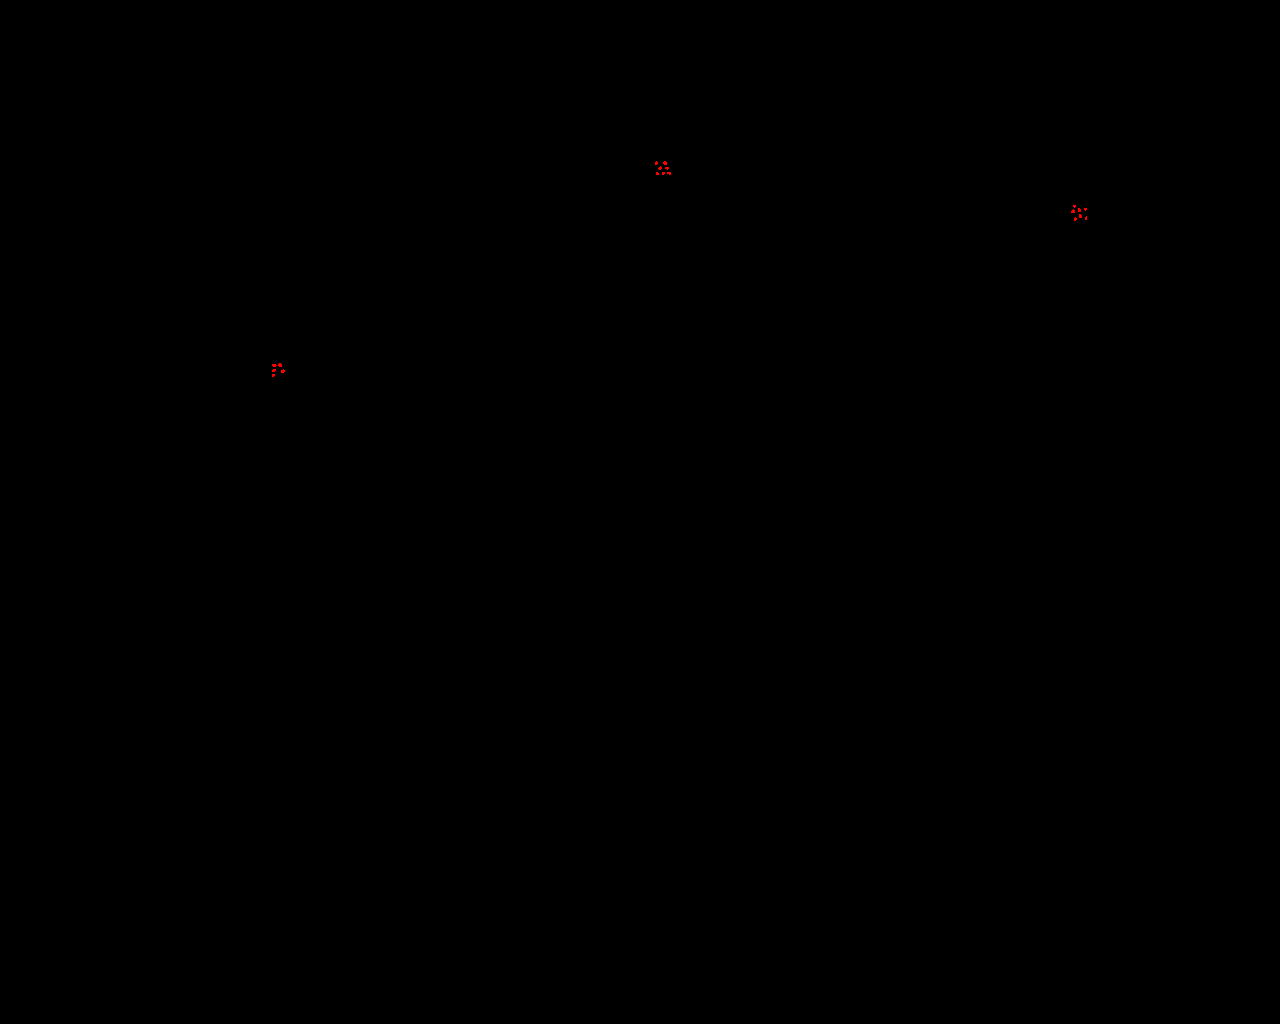Target: (658, 166, 662, 170), (1071, 209, 1075, 213), (278, 363, 282, 367), (281, 369, 285, 373), (272, 364, 277, 367), (655, 161, 658, 165), (664, 161, 667, 165), (665, 167, 669, 170), (1078, 208, 1081, 212), (1079, 214, 1083, 218), (1074, 217, 1077, 222), (272, 369, 276, 372), (1073, 205, 1076, 208), (1084, 208, 1087, 211), (272, 374, 275, 377), (667, 172, 671, 174), (1085, 216, 1087, 220), (656, 172, 659, 174), (662, 172, 665, 174)
